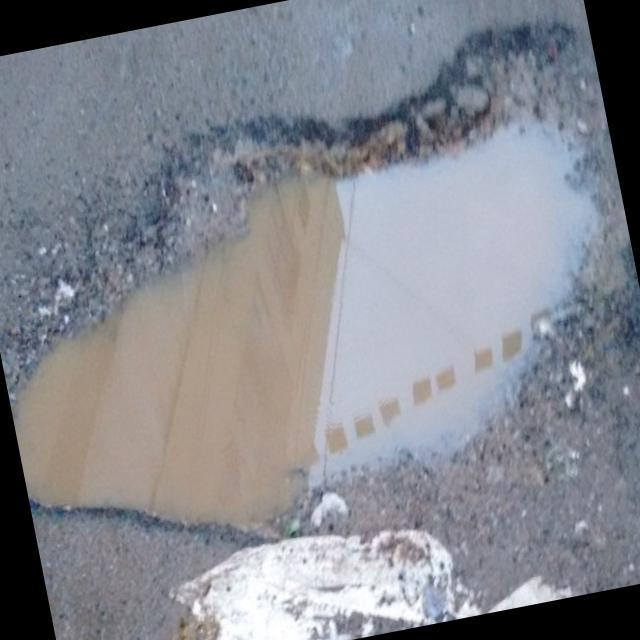Pothole: (0, 14, 640, 566)
